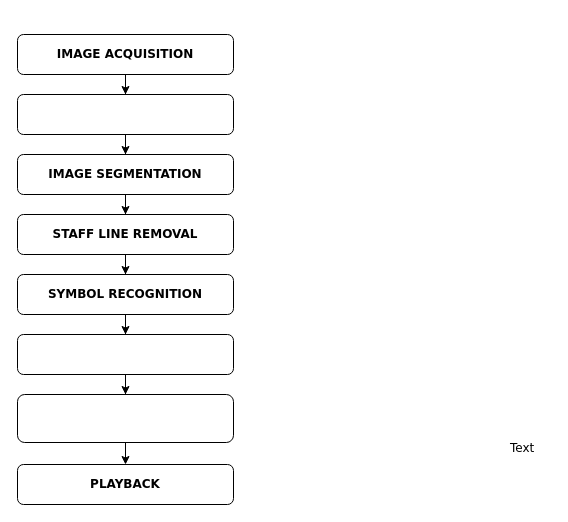
Some shapes in this 568 by 522 pixel diagram are drawn without their labels. The shapes that lost their labels are listed below. From the top down, each one's box as (x1, y1, x2, y2) in pixels, then its label:
(16, 94, 234, 134): IMAGE PREPROCESSING
(16, 334, 234, 374): SYMBOL INTERPRETATION
(16, 394, 234, 442): CONVERSION INTO MUSICXML
